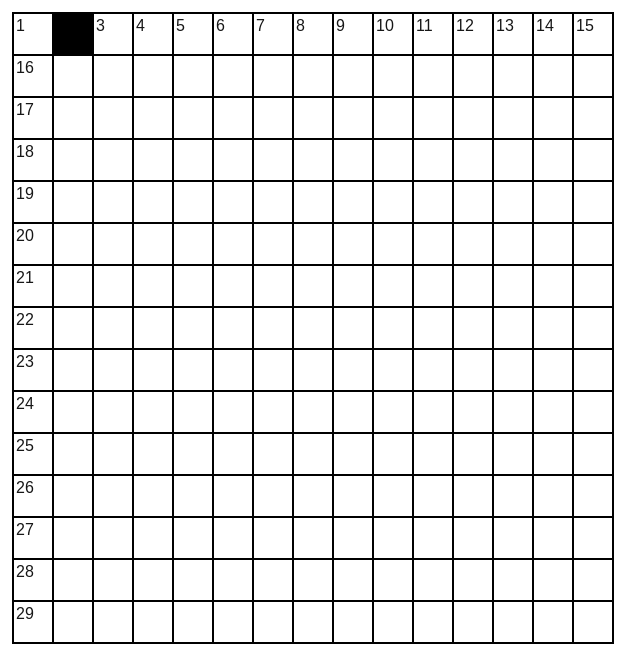
Test: Text Edit Mode › Auto-advance › advances to the next empty non-black square after entry (in across mode, horizontally)
Step 1. Click the 1st field with test id "crossword-input" → [34, 34], box [14,14,54,54]
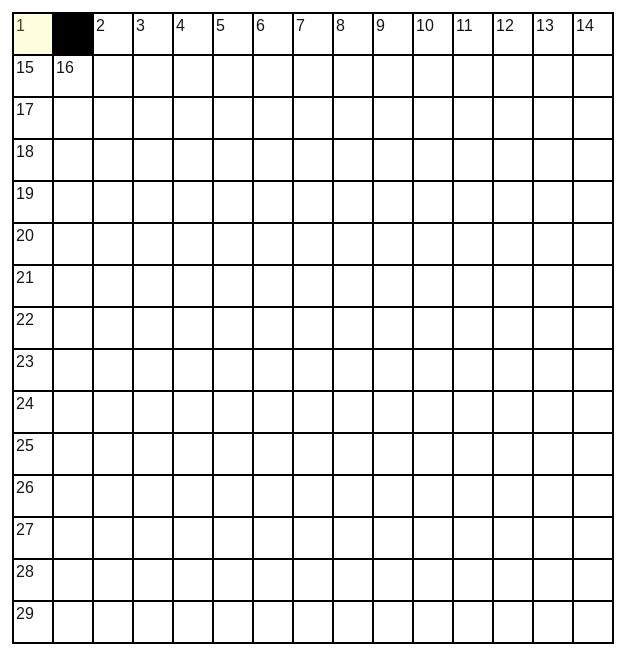
Step 2. Type keys "a"
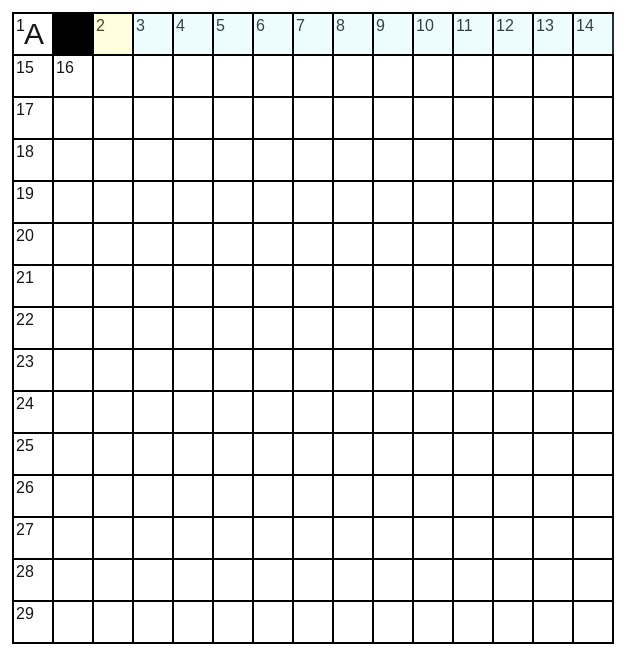
Step 3. Type keys "b"
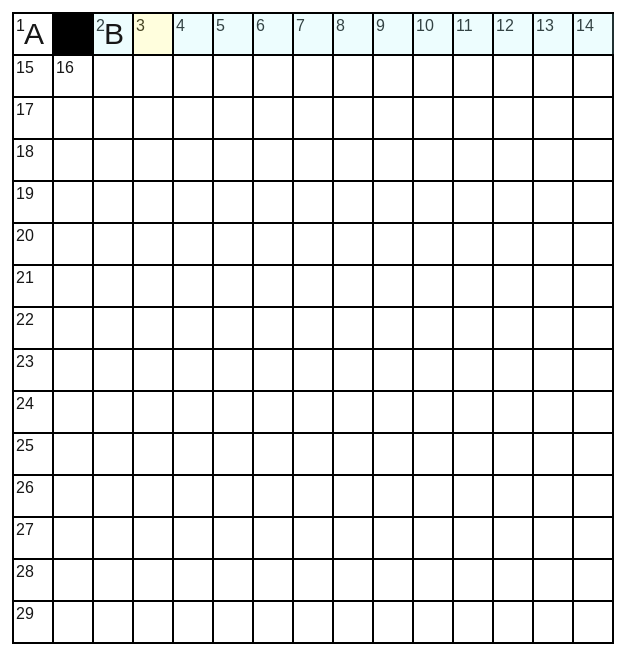
Result: the 3rd field with test id "crossword-input" holds "B" at [94,14,134,54]
